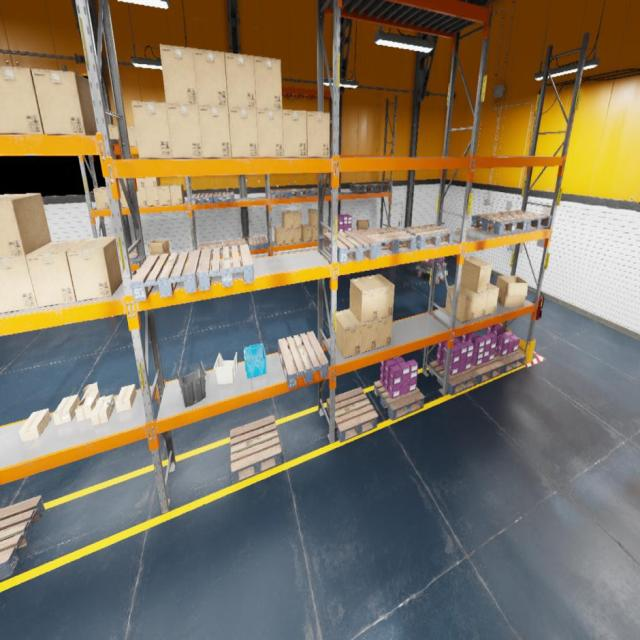box: (31, 68, 97, 136), (26, 239, 85, 307), (66, 236, 122, 301), (0, 193, 51, 258), (0, 66, 45, 135), (159, 43, 198, 105), (132, 101, 172, 158), (0, 256, 38, 313), (193, 48, 228, 107), (166, 104, 203, 159), (225, 53, 256, 109), (198, 106, 232, 157), (254, 56, 282, 110), (228, 108, 258, 158), (349, 277, 379, 324), (349, 308, 377, 354), (257, 109, 283, 158), (366, 274, 394, 318), (336, 309, 361, 358), (445, 285, 477, 322), (460, 256, 492, 293), (282, 110, 306, 157), (19, 408, 51, 442), (307, 111, 330, 157), (460, 284, 488, 319), (496, 276, 528, 306), (76, 382, 100, 421), (52, 395, 80, 425), (91, 395, 115, 425), (116, 384, 137, 413), (376, 315, 393, 349), (485, 283, 499, 315), (148, 240, 170, 258), (93, 187, 110, 209), (157, 185, 172, 205), (107, 188, 122, 208), (170, 185, 184, 204), (145, 187, 159, 206), (126, 126, 138, 146), (274, 227, 286, 246), (282, 211, 294, 230), (137, 188, 148, 206), (302, 224, 312, 242), (291, 210, 301, 228), (308, 210, 318, 227), (144, 177, 161, 187), (105, 177, 119, 189), (120, 188, 128, 208), (357, 219, 369, 230), (294, 228, 302, 243), (286, 229, 294, 244), (310, 226, 318, 240), (111, 125, 119, 138), (136, 178, 145, 187), (118, 178, 126, 188), (323, 222, 327, 240), (109, 125, 112, 138)
pallets: (0, 496, 45, 580), (131, 250, 201, 301), (230, 415, 281, 484), (278, 332, 329, 388), (327, 388, 378, 442), (197, 244, 254, 292), (374, 381, 425, 420), (323, 230, 378, 264), (429, 360, 479, 396), (358, 227, 416, 255), (401, 224, 454, 249), (471, 213, 527, 235), (498, 210, 552, 231), (471, 357, 504, 384), (492, 350, 526, 374), (420, 260, 447, 274), (198, 242, 223, 254), (248, 236, 268, 251), (190, 193, 213, 204), (214, 192, 235, 204), (286, 188, 309, 198), (224, 239, 246, 249), (270, 190, 290, 200), (366, 183, 390, 191), (350, 184, 374, 192), (308, 188, 331, 196), (128, 251, 138, 264), (338, 230, 352, 233)
